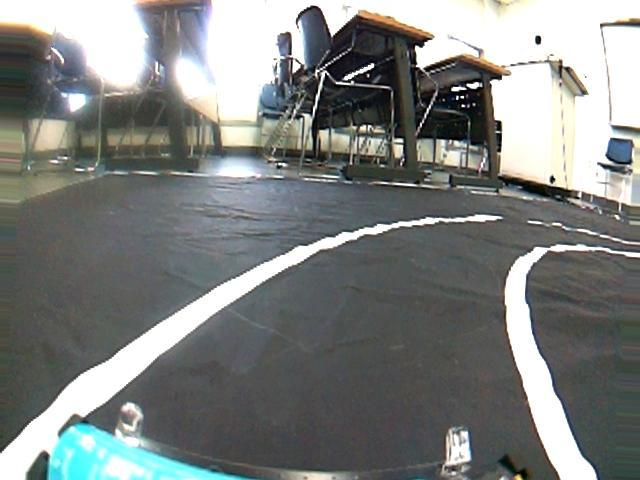right: (10, 207, 627, 479)
